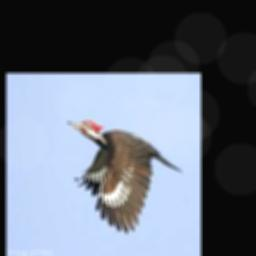Woodpecker: (68, 120, 183, 234)
